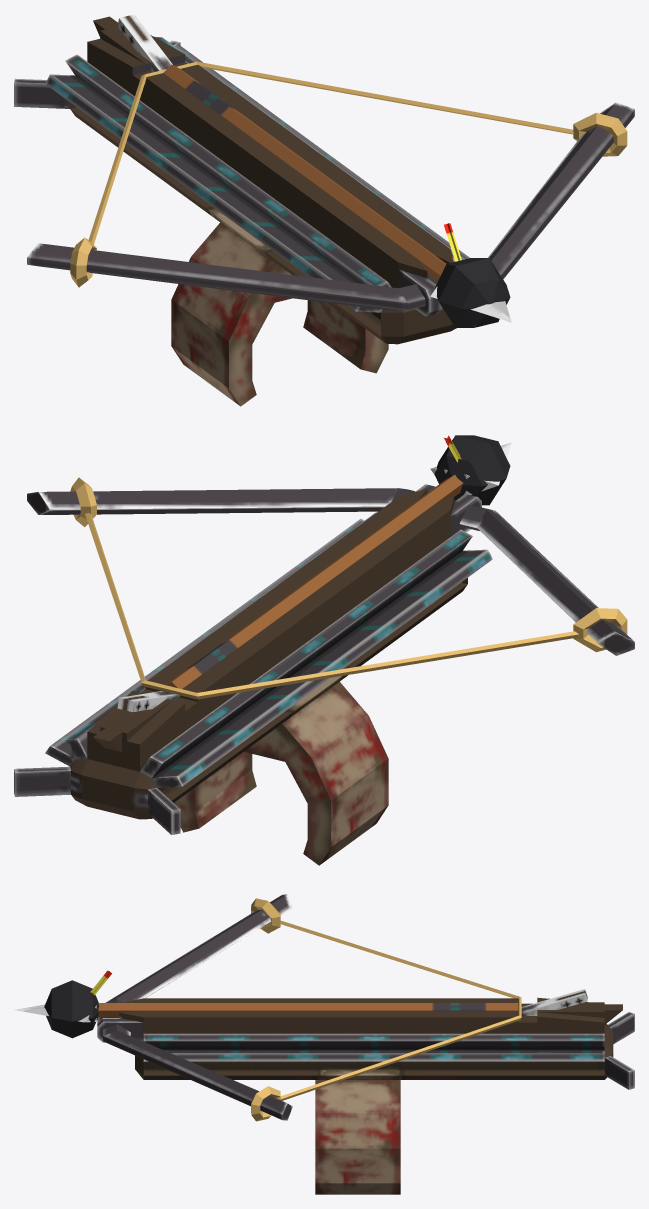
File: WristCrossbow.fbx
3 renders of one model, top to bottom at view 1: azimuth 30°, elevation 25°; view 2: azimuth 150°, elevation 25°; view 3: azimuth 270°, elevation 25°, orthographic. The views are drawn at different scales.
Visible parts, largest first — view 1: Crossbow, ArrowNormal, ArrowBomb; view 2: Crossbow, ArrowNormal, ArrowBomb; view 3: Crossbow, ArrowNormal, ArrowBomb.
Boxes of the visible parts, x1,y1,x2,y2 form: Crossbow: (14, 14, 634, 406); ArrowNormal: (163, 64, 511, 322); ArrowBomb: (434, 223, 510, 327); Crossbow: (14, 477, 634, 865); ArrowNormal: (165, 442, 511, 688); ArrowBomb: (434, 435, 510, 505); Crossbow: (97, 894, 634, 1194); ArrowNormal: (15, 1003, 518, 1022); ArrowBomb: (44, 970, 111, 1038).
Bounding box in the file's own units: 41.07 × 17.39 × 48.97.
